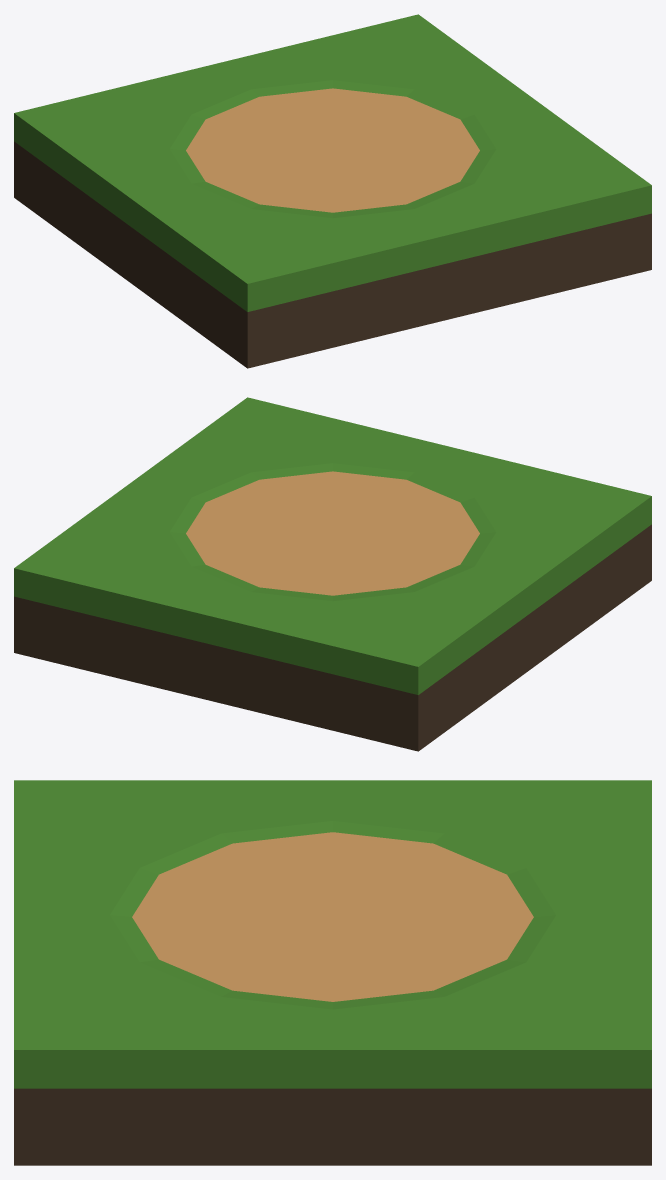
The model's file is tiles_tile-golf-sand.fbx.
3 renders of one model, top to bottom at view 1: azimuth 30°, elevation 25°; view 2: azimuth 150°, elevation 25°; view 3: azimuth 270°, elevation 25°, orthographic. The views are drawn at different scales.
Visible parts, largest first — view 1: tiles_tile_golf_sand; view 2: tiles_tile_golf_sand; view 3: tiles_tile_golf_sand.
Part boxes in pixels (x1=…): tiles_tile_golf_sand: x1=14, y1=14, x2=651, y2=368; tiles_tile_golf_sand: x1=14, y1=397, x2=651, y2=751; tiles_tile_golf_sand: x1=14, y1=780, x2=651, y2=1165.
Bounding box in the file's own units: 200 × 40 × 200.
